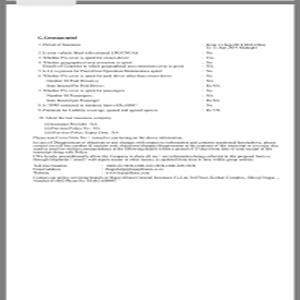text: (34, 34, 266, 134), (31, 139, 281, 185)
